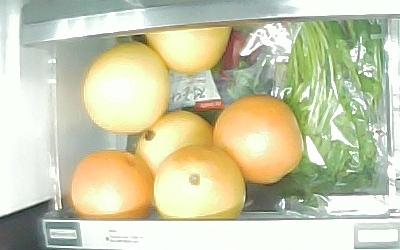grapefruit: (213, 94, 305, 185), (82, 40, 170, 135), (153, 144, 247, 221), (71, 148, 153, 221), (133, 109, 214, 171), (145, 27, 232, 75)
